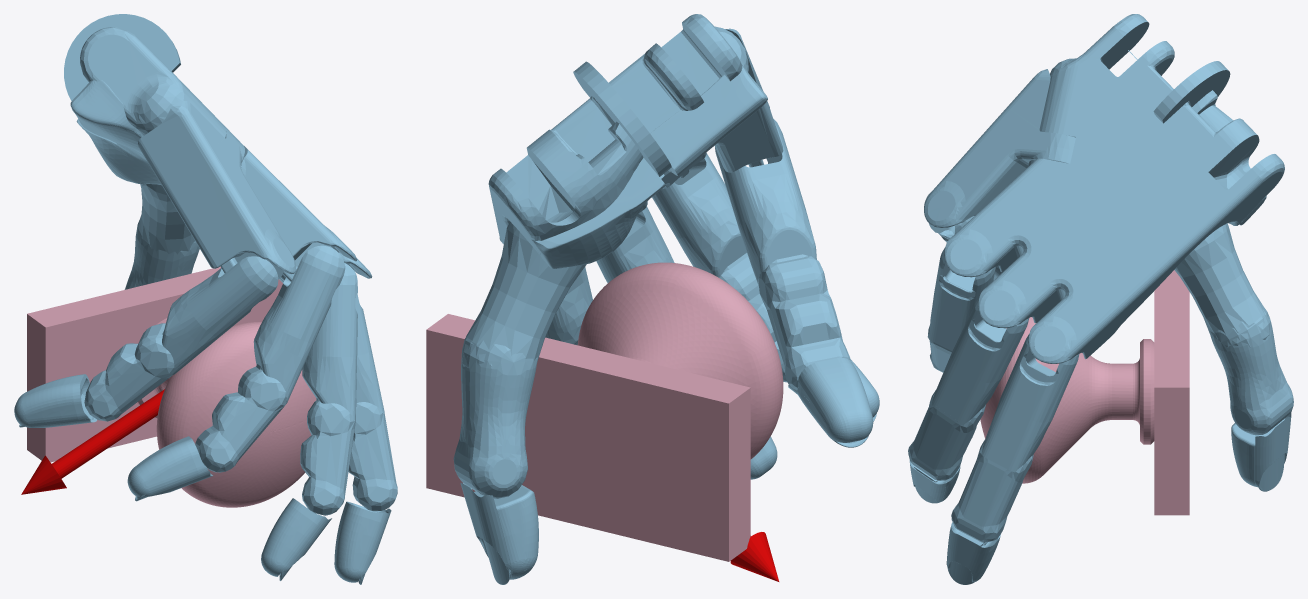
The picture shows the model from 3 angles, left to right: view 1: azimuth 30°, elevation 25°; view 2: azimuth 150°, elevation 25°; view 3: azimuth 270°, elevation 25°; orthographic projection. The views are drawn at different scales.
Parts seen in each view (by area): view 1: world, door_knob.stl; view 2: world, door_knob.stl; view 3: world, door_knob.stl.
Boxes of the visible parts, x1,y1,x2,y2 form: world: (14,14,397,584); door_knob.stl: (27,266,316,507); world: (453,14,879,584); door_knob.stl: (426,262,783,561); world: (908,14,1293,584); door_knob.stl: (980,270,1189,515).
Bounding box in the file's own units: 0.1275 × 0.1941 × 0.1367.
